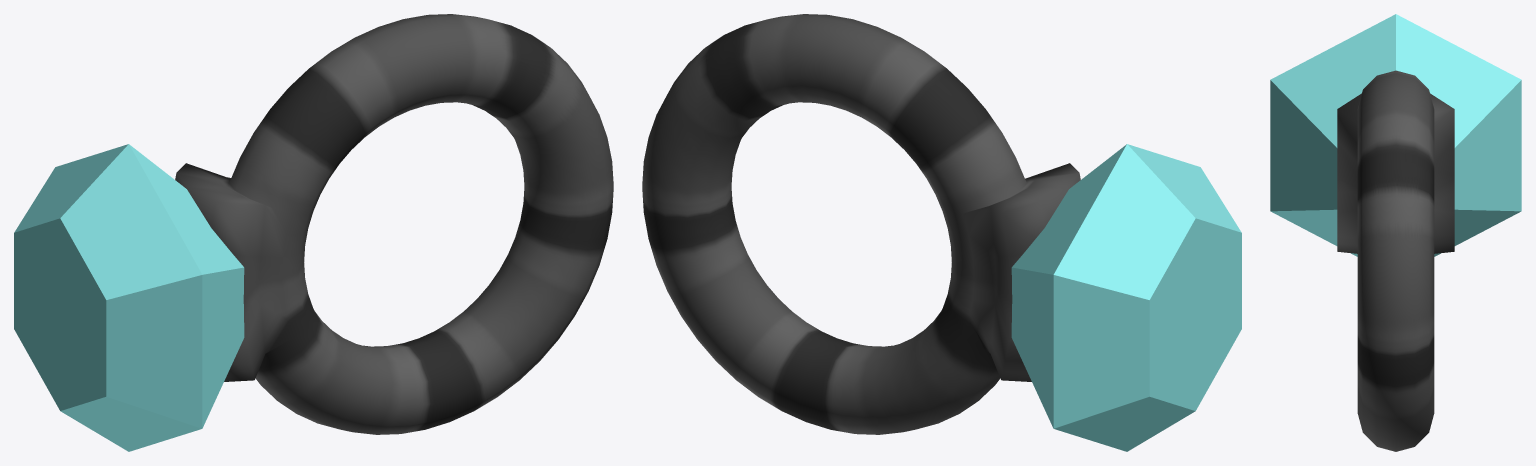
File: item-ring-with-metal.glb
3 views of the same model, side by side, from view 1: azimuth 30°, elevation 25°; view 2: azimuth 150°, elevation 25°; view 3: azimuth 270°, elevation 25° (orthographic). The views are drawn at different scales.
Bounding box in the file's own units: 3.54 × 2.5 × 1.65.
2 materials, 1 textured.
